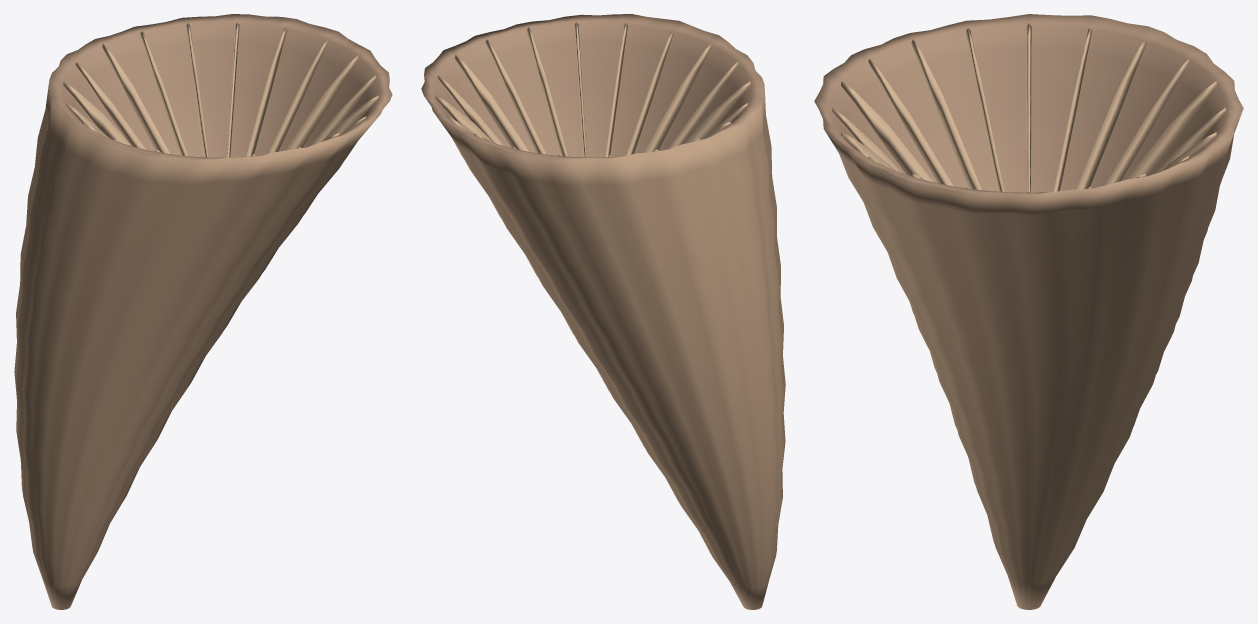
The model's file is heliophyllum.glb.
The picture shows the model from 3 angles, left to right: view 1: azimuth 30°, elevation 25°; view 2: azimuth 150°, elevation 25°; view 3: azimuth 270°, elevation 25°; orthographic projection. The views are drawn at different scales.
Parts seen in each view (by area): view 1: curved-corallum-with-continuous-deep-calyx, simplified-radial-septa-inside-calyx; view 2: curved-corallum-with-continuous-deep-calyx, simplified-radial-septa-inside-calyx; view 3: curved-corallum-with-continuous-deep-calyx, simplified-radial-septa-inside-calyx.
Part boxes in pixels (x1=…): curved-corallum-with-continuous-deep-calyx: x1=14, y1=14, x2=392, y2=609; simplified-radial-septa-inside-calyx: x1=63, y1=22, x2=378, y2=157; curved-corallum-with-continuous-deep-calyx: x1=421, y1=14, x2=785, y2=609; simplified-radial-septa-inside-calyx: x1=435, y1=22, x2=750, y2=157; curved-corallum-with-continuous-deep-calyx: x1=814, y1=14, x2=1243, y2=609; simplified-radial-septa-inside-calyx: x1=832, y1=23, x2=1225, y2=192.
Size of the model in its own units: 0.0882 by 0.12 by 0.0778.
